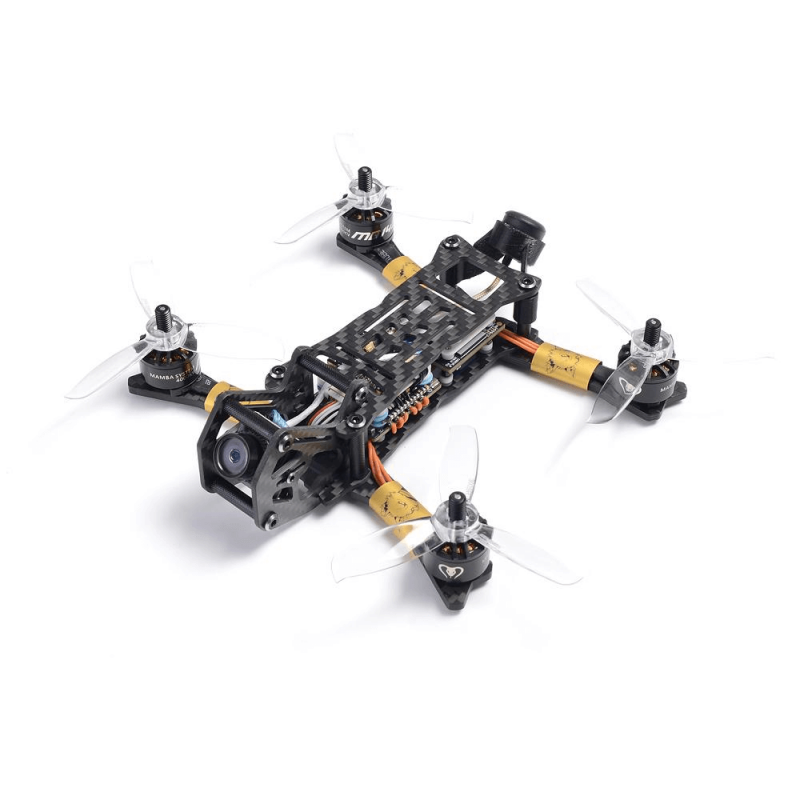drone: (49, 104, 721, 640)
